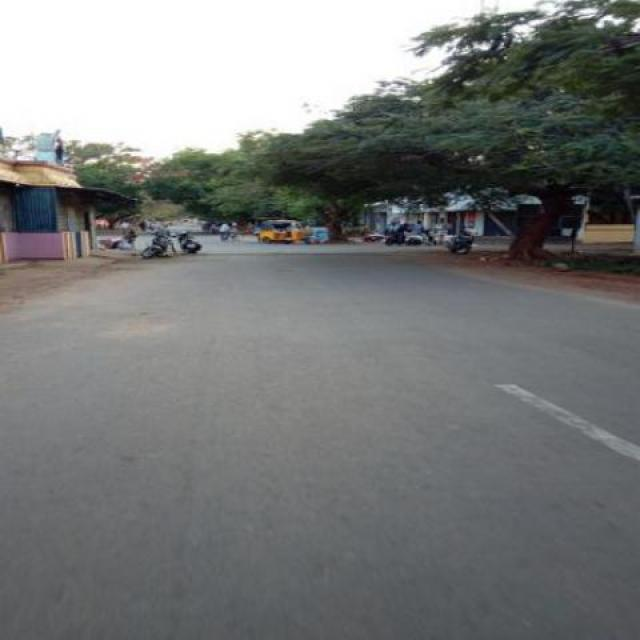Unmarked Bump: (172, 250, 408, 258)
